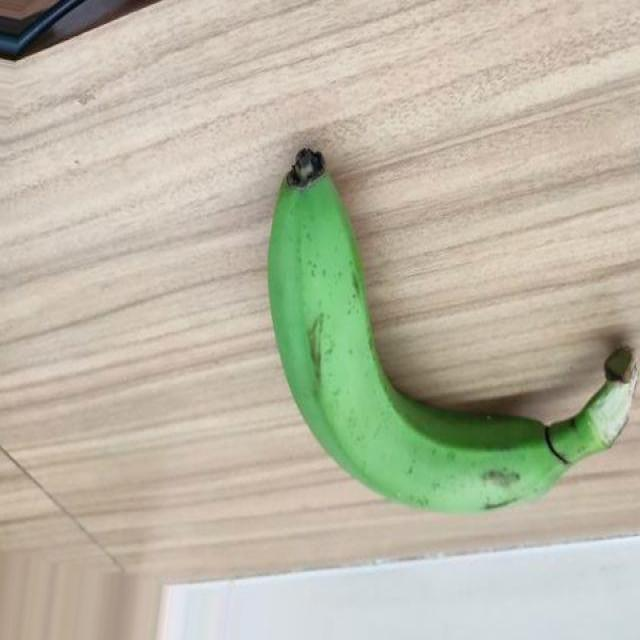Unripe: (266, 143, 640, 514)
